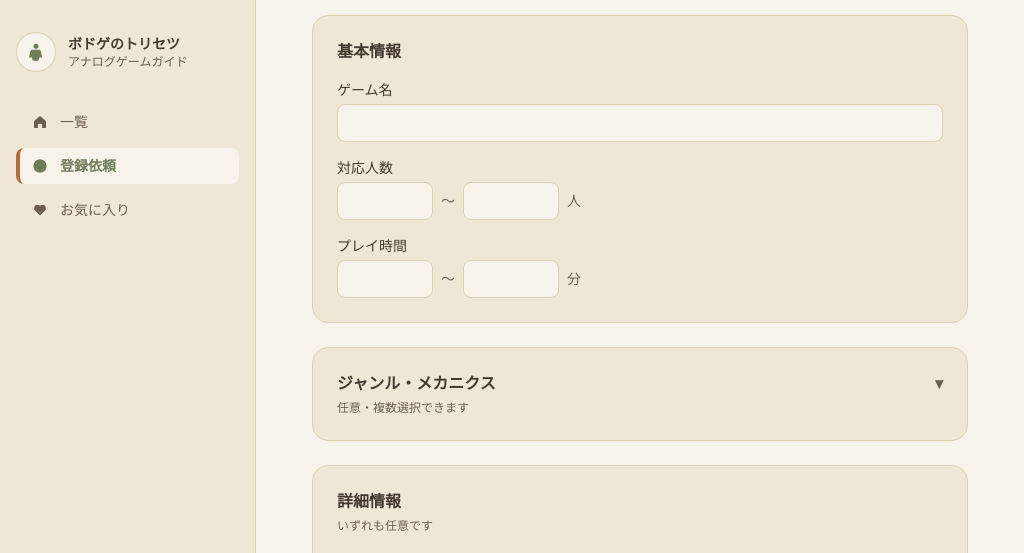
Test: 【登録依頼画面】ジャンルの説明文 - 選択したチップの直下にだけ表示する(情報過多を避けるため常時表示しない) › 「対戦」を選択すると、その直下に「対戦」の説明文だけが表示され、未選択の「協力」の説明文は表示されないこと
This screenshot has width=1024, height=553.
(page scrolled)
What coordinates should you click on to do the following:
click the button "ジャンル・メカニクス ▾"
I would click on:
 (416, 384)
Its box is [337,372,943,396].
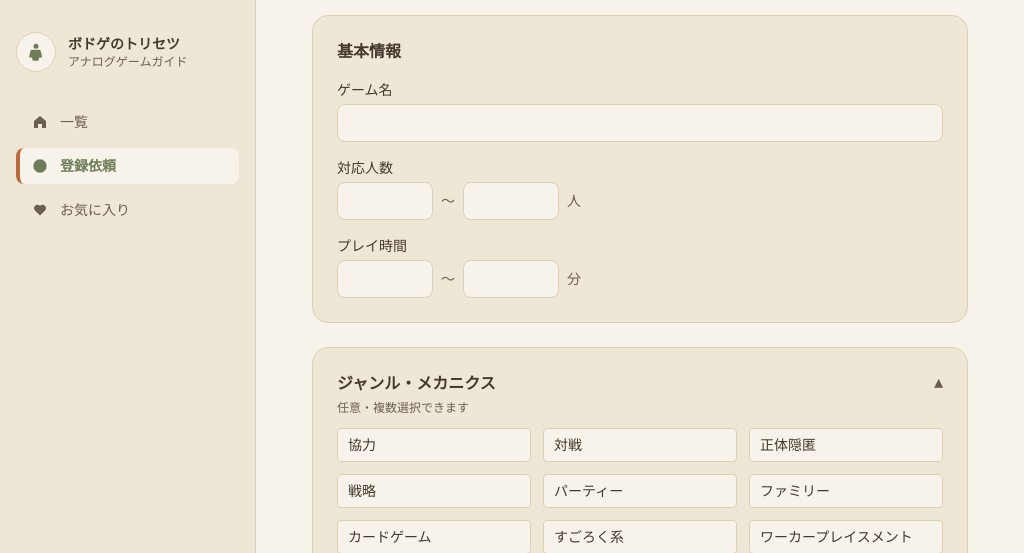
What coordinates should you click on to do the following:
click the checkbox labelled "対戦"
I would click on:
 (640, 445)
Its box is [543,428,737,462].
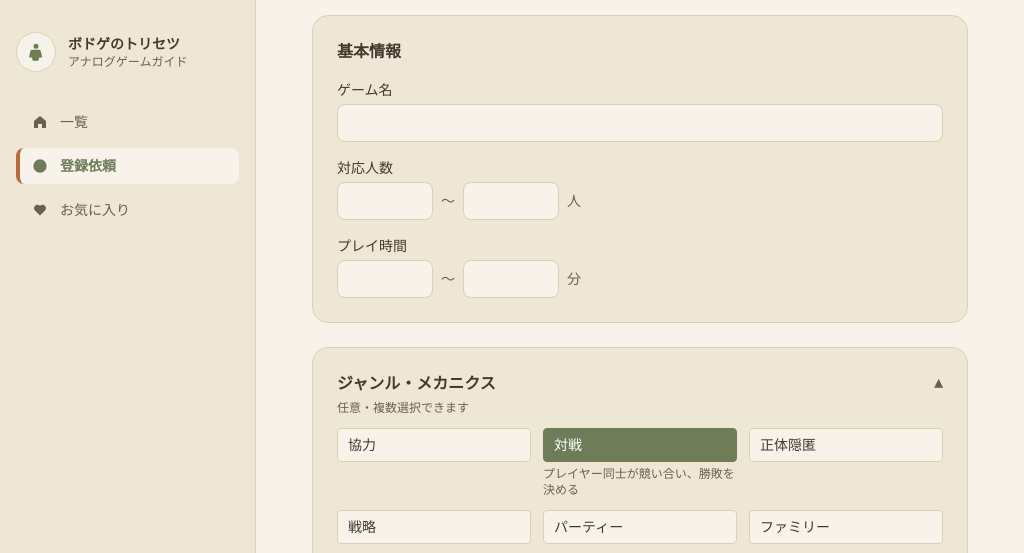
Check: the text "プレイヤー同士が競い合い、勝敗を決める" is shown, box [543,466,737,498]
